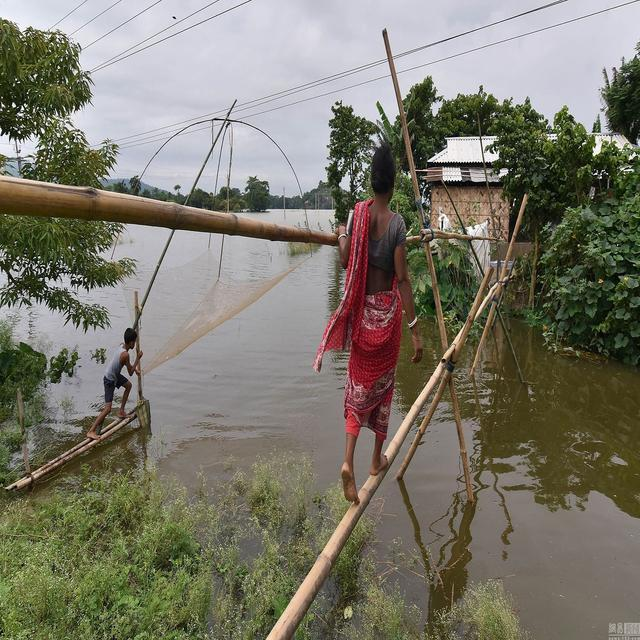Person-RiskLevel1: (320, 141, 416, 506), (80, 280, 162, 455)
